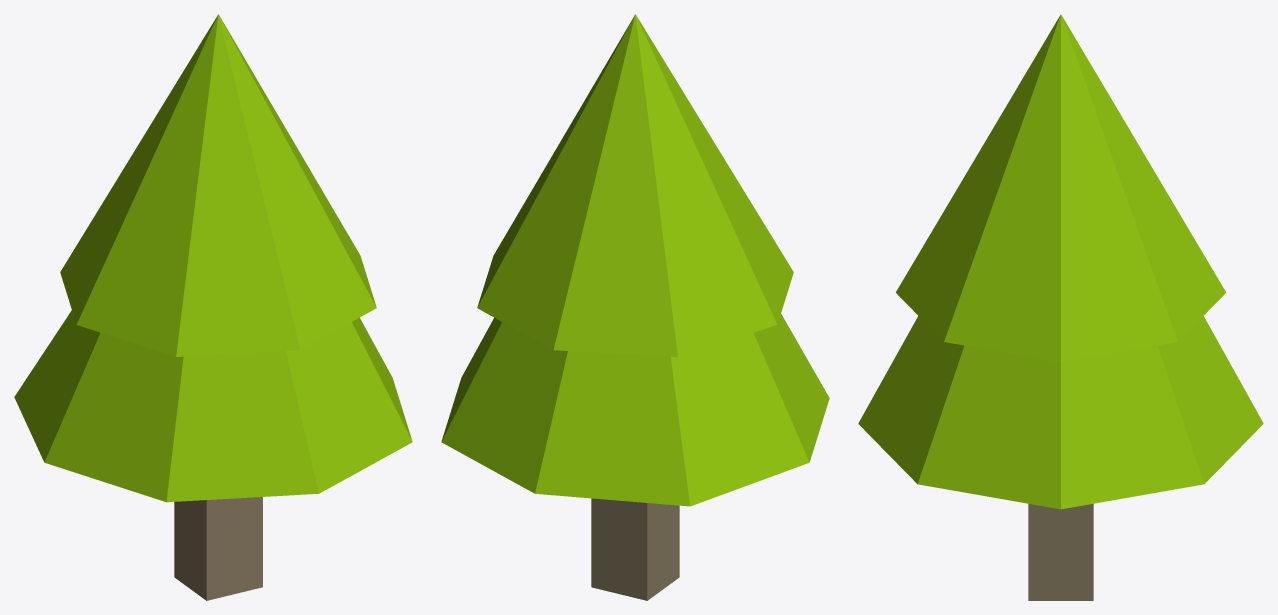
File: pine_7.fbx
3 views of the same model, side by side, from view 1: azimuth 30°, elevation 25°; view 2: azimuth 150°, elevation 25°; view 3: azimuth 270°, elevation 25° (orthographic).
Parts seen in each view (by area): view 1: pine_7; view 2: pine_7; view 3: pine_7.
Part boxes in pixels (x1,y1,x2,y2): pine_7: (14, 14, 412, 600); pine_7: (441, 14, 829, 600); pine_7: (858, 14, 1263, 600).
Size of the model in its own units: 74.86 by 117 by 74.86.
